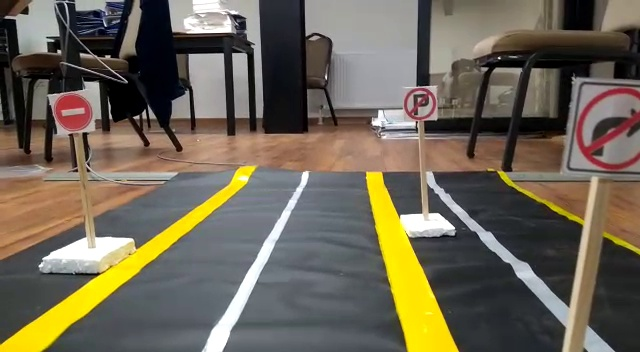girisi_olmayan_yol: (51, 91, 95, 132)
park_yapilmaz: (402, 86, 437, 121)
saga_donulmez: (574, 76, 640, 178)
